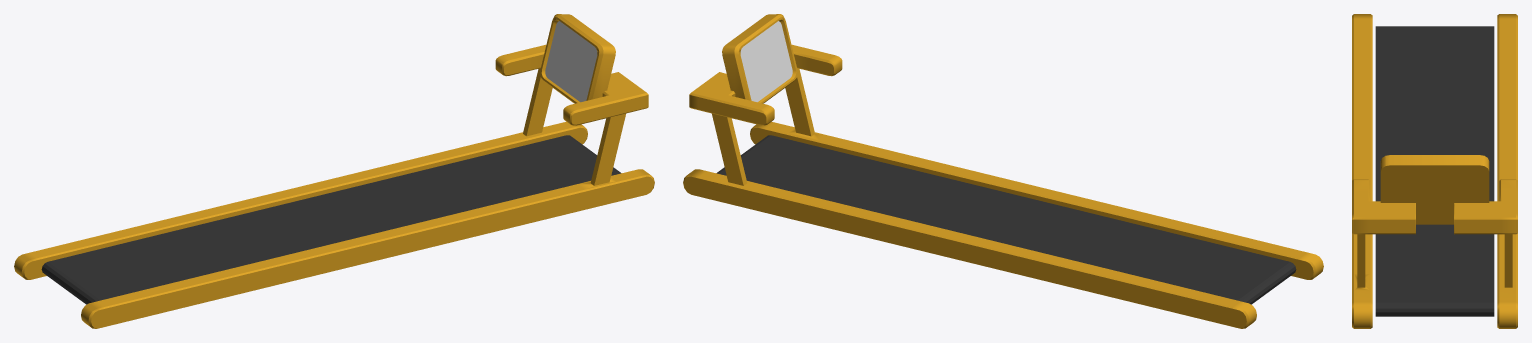
Rendered from Trining.fbx.
3 renders of one model, left to right at view 1: azimuth 30°, elevation 25°; view 2: azimuth 150°, elevation 25°; view 3: azimuth 270°, elevation 25°, orthographic. The views are drawn at different scales.
Visible parts, largest first — view 1: Trainer.001; view 2: Trainer.001; view 3: Trainer.001.
Boxes of the visible parts, x1,y1,x2,y2 form: Trainer.001: (14, 14, 654, 328); Trainer.001: (683, 14, 1323, 328); Trainer.001: (1352, 14, 1517, 328).
Bounding box in the file's own units: 280 × 1200 × 294.
